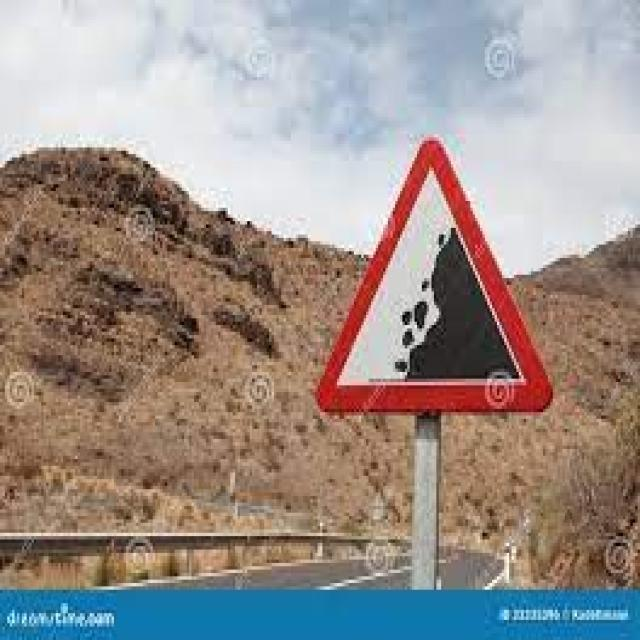falling rocks: (315, 132, 556, 420)
